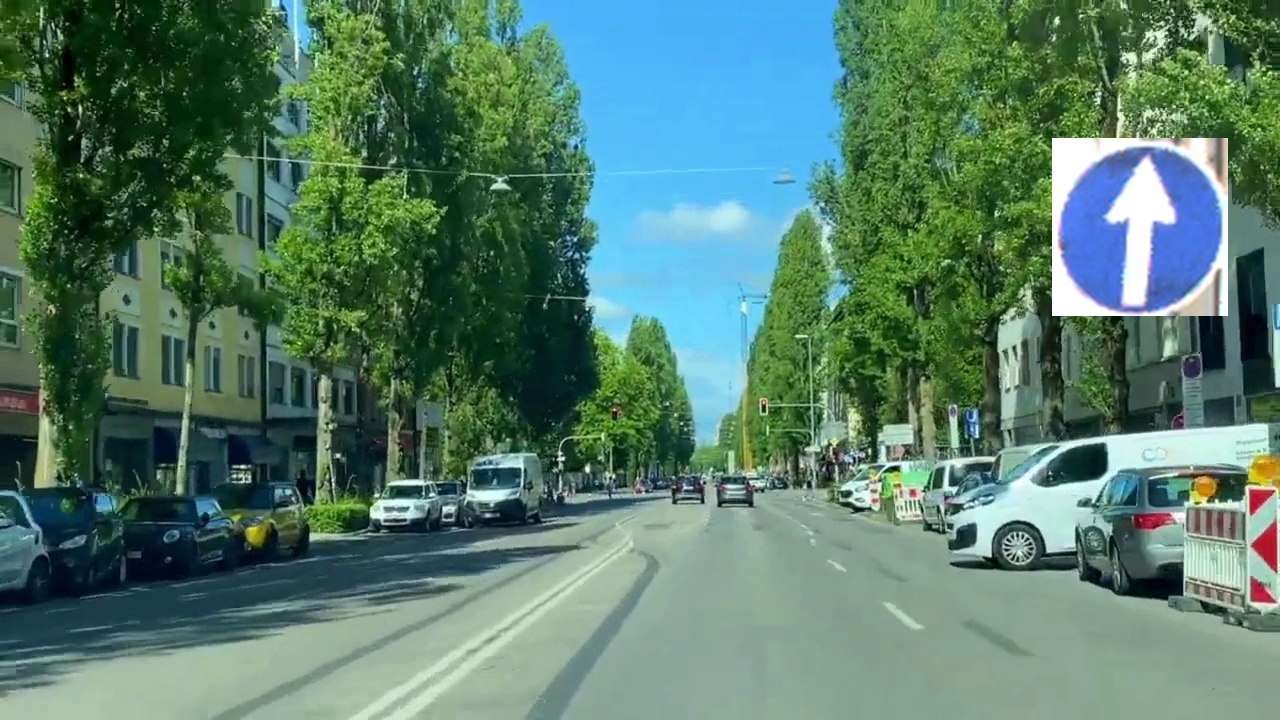Ahead only: (1052, 138, 1228, 316)
